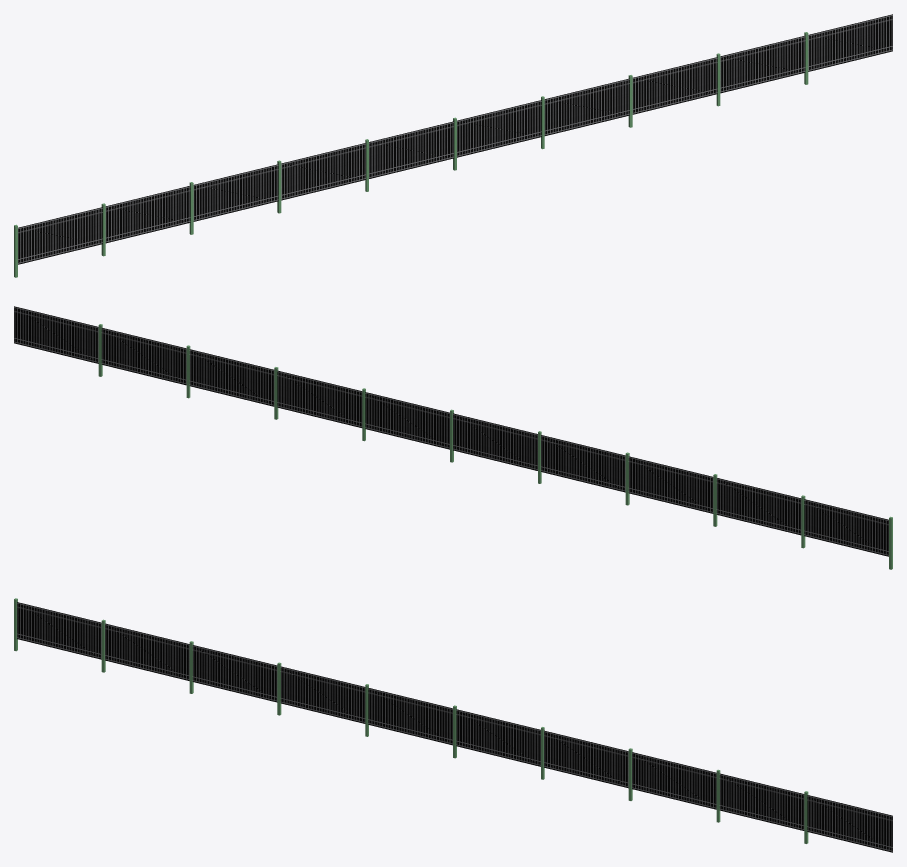
The model's file is fence-mesh-10s-cbj_LOD00.gltf.
3 views of the same model, one above another, from view 1: azimuth 30°, elevation 25°; view 2: azimuth 150°, elevation 25°; view 3: azimuth 330°, elevation 25° (orthographic).
Visible parts, largest first — view 1: post; view 2: post; view 3: post.
Part boxes in pixels (box(x1,y1,x2,y2)): post: box(14, 14, 892, 277); post: box(14, 306, 892, 569); post: box(14, 598, 892, 852).
Size of the model in its own units: 25 by 1.4 by 0.07.
